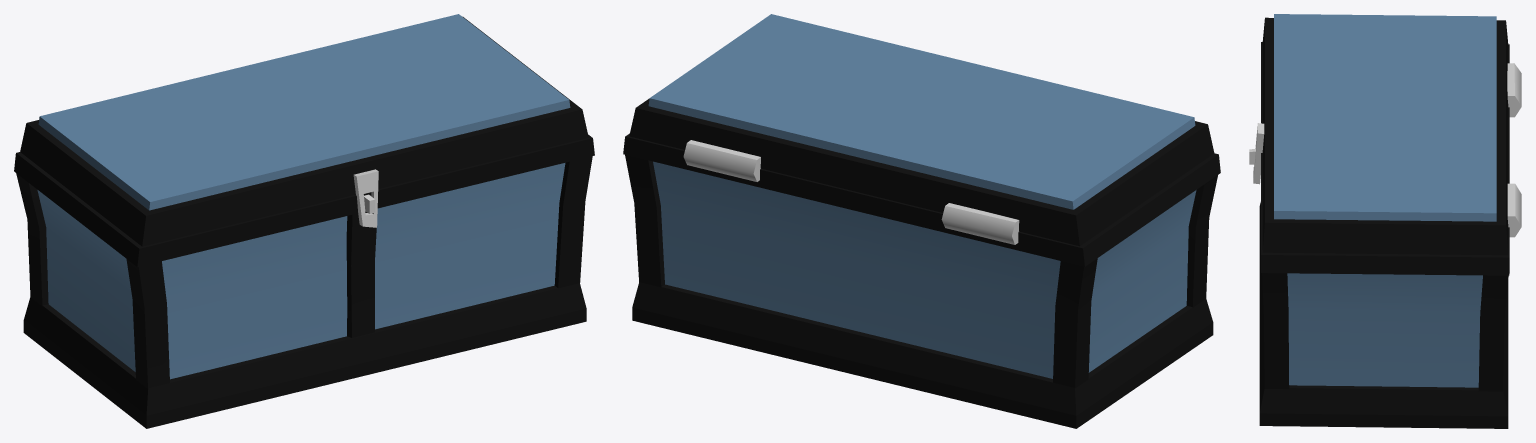
File: chest.fbx
3 renders of one model, left to right at view 1: azimuth 30°, elevation 25°; view 2: azimuth 150°, elevation 25°; view 3: azimuth 270°, elevation 25°, orthographic. The views are drawn at different scales.
Visible parts, largest first — view 1: chest.001, chest.002; view 2: chest.001, chest.002; view 3: chest.002, chest.001.
Boxes of the visible parts, bbox=[...] form: chest.001: bbox=[14, 134, 594, 428]; chest.002: bbox=[20, 14, 588, 246]; chest.001: bbox=[623, 133, 1220, 428]; chest.002: bbox=[629, 14, 1214, 246]; chest.002: bbox=[1253, 14, 1508, 255]; chest.001: bbox=[1249, 42, 1521, 428].
Size of the model in its own units: 2.4 by 1.08 by 1.27.
